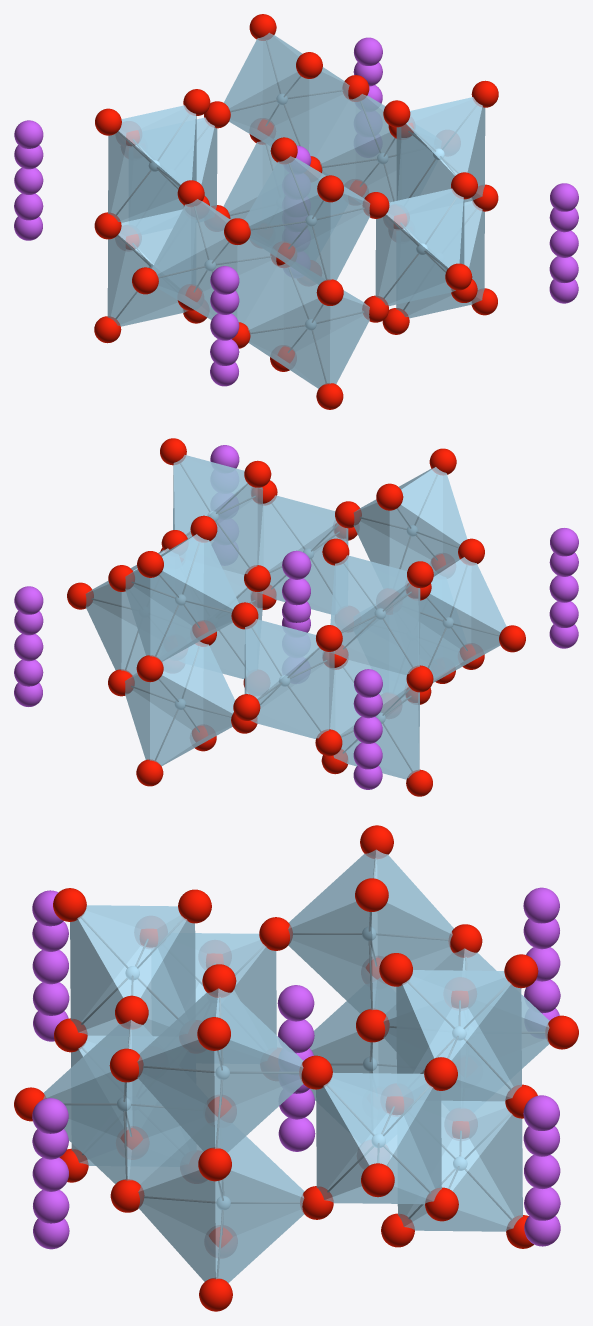
3 renders of one model, top to bottom at view 1: azimuth 30°, elevation 25°; view 2: azimuth 150°, elevation 25°; view 3: azimuth 270°, elevation 25°, orthographic. The views are drawn at different scales.
Parts seen in each view (by area): view 1: Shape_IndexedFaceSet.081, Shape_IndexedFaceSet.089, Shape_IndexedFaceSet.002, Shape_IndexedFaceSet.034, Shape_IndexedFaceSet.066, Shape_IndexedFaceSet.007, Shape_IndexedFaceSet.039, Shape_IndexedFaceSet.054, Shape_IndexedFaceSet.070, Shape_IndexedFaceSet.085, Shape_IndexedFaceSet.053, Shape_IndexedFaceSet.025 (+90 smaller); view 2: Shape_IndexedFaceSet.065, Shape_IndexedFaceSet.073, Shape_IndexedFaceSet.035, Shape_IndexedFaceSet.017, Shape_IndexedFaceSet.011, Shape_IndexedFaceSet.012, Shape_IndexedFaceSet.086, Shape_IndexedFaceSet.015, Shape_IndexedFaceSet.055, Shape_IndexedFaceSet.038, Shape_IndexedFaceSet.006, Shape_IndexedFaceSet.043 (+82 smaller); view 3: Shape_IndexedFaceSet.031, Shape_IndexedFaceSet.087, Shape_IndexedFaceSet.061, Shape_IndexedFaceSet.053, Shape_IndexedFaceSet.071, Shape_IndexedFaceSet.036, Shape_IndexedFaceSet.060, Shape_IndexedFaceSet.052, Shape_IndexedFaceSet.004, Shape_IndexedFaceSet.051, Shape_IndexedFaceSet.034, Shape_IndexedFaceSet.078 (+110 smaller).
Part boxes in pixels (x1,y1,x2,y2): Shape_IndexedFaceSet.081: (249, 194, 330, 284); Shape_IndexedFaceSet.089: (248, 298, 330, 388); Shape_IndexedFaceSet.002: (375, 214, 448, 304); Shape_IndexedFaceSet.034: (108, 131, 180, 221); Shape_IndexedFaceSet.066: (229, 72, 309, 151); Shape_IndexedFaceSet.007: (386, 188, 463, 267); Shape_IndexedFaceSet.039: (118, 105, 195, 184); Shape_IndexedFaceSet.054: (406, 97, 482, 175); Shape_IndexedFaceSet.070: (263, 35, 343, 125); Shape_IndexedFaceSet.085: (284, 158, 363, 247); Shape_IndexedFaceSet.053: (413, 100, 484, 185); Shape_IndexedFaceSet.025: (320, 132, 396, 202); Shape_IndexedFaceSet.065: (150, 571, 232, 661); Shape_IndexedFaceSet.073: (150, 675, 232, 766); Shape_IndexedFaceSet.035: (340, 582, 420, 673); Shape_IndexedFaceSet.017: (420, 594, 500, 682); Shape_IndexedFaceSet.011: (257, 647, 329, 738); Shape_IndexedFaceSet.012: (245, 622, 323, 707); Shape_IndexedFaceSet.086: (360, 469, 442, 558); Shape_IndexedFaceSet.015: (245, 619, 318, 698); Shape_IndexedFaceSet.055: (173, 455, 247, 534); Shape_IndexedFaceSet.038: (330, 555, 408, 630); Shape_IndexedFaceSet.006: (258, 495, 336, 570); Shape_IndexedFaceSet.043: (340, 687, 419, 777); Shape_IndexedFaceSet.031: (324, 1072, 432, 1165); Shape_IndexedFaceSet.087: (77, 905, 186, 997); Shape_IndexedFaceSet.061: (215, 1170, 304, 1282); Shape_IndexedFaceSet.053: (214, 1040, 303, 1152); Shape_IndexedFaceSet.071: (402, 970, 511, 1060); Shape_IndexedFaceSet.036: (288, 902, 372, 1013); Shape_IndexedFaceSet.060: (138, 1170, 215, 1281); Shape_IndexedFaceSet.052: (137, 1040, 214, 1151); Shape_IndexedFaceSet.004: (43, 1072, 127, 1183); Shape_IndexedFaceSet.051: (220, 993, 302, 1105); Shape_IndexedFaceSet.034: (289, 854, 376, 967); Shape_IndexedFaceSet.078: (452, 1114, 522, 1228).
Size of the model in its own units: 1167 by 670 by 1167.
